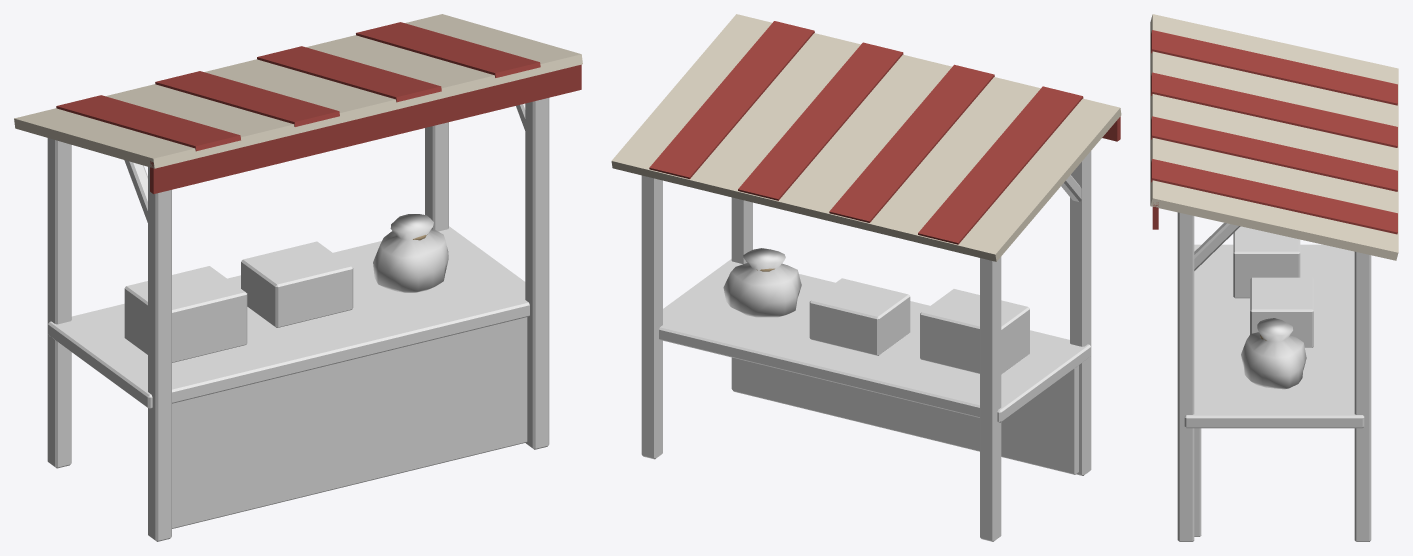
File: prop_etal_marche.fbx
3 renders of one model, left to right at view 1: azimuth 30°, elevation 25°; view 2: azimuth 150°, elevation 25°; view 3: azimuth 270°, elevation 25°, orthographic. The views are drawn at different scales.
Parts seen in each view (by area): view 1: prop_etal_marche_LOD0; view 2: prop_etal_marche_LOD0; view 3: prop_etal_marche_LOD0.
Boxes of the visible parts, x1,y1,x2,y2 form: prop_etal_marche_LOD0: (14, 14, 582, 541); prop_etal_marche_LOD0: (611, 14, 1121, 541); prop_etal_marche_LOD0: (1150, 14, 1398, 541).
Size of what is drawn, in the model's own units: 2.86 by 2.56 by 1.63.
